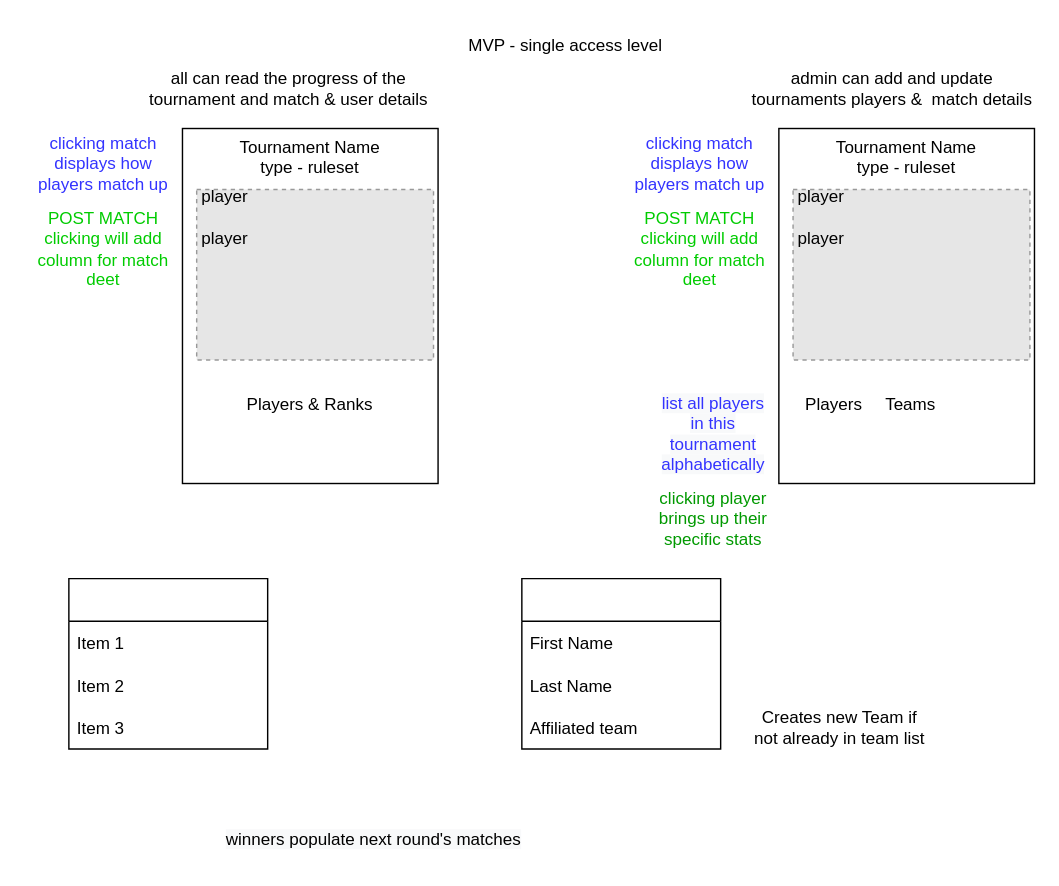
The diagram is 1059 pixels wide and 886 high, and some of its shapes have lost their labels. Grey dashed boxes stand in for pictures. The box of each missing label's shape, as (x1, y1, x2, y2) in pixels:
Create Competitor Form: (520, 577, 721, 749)
Create Tournament Form: (67, 577, 268, 749)
